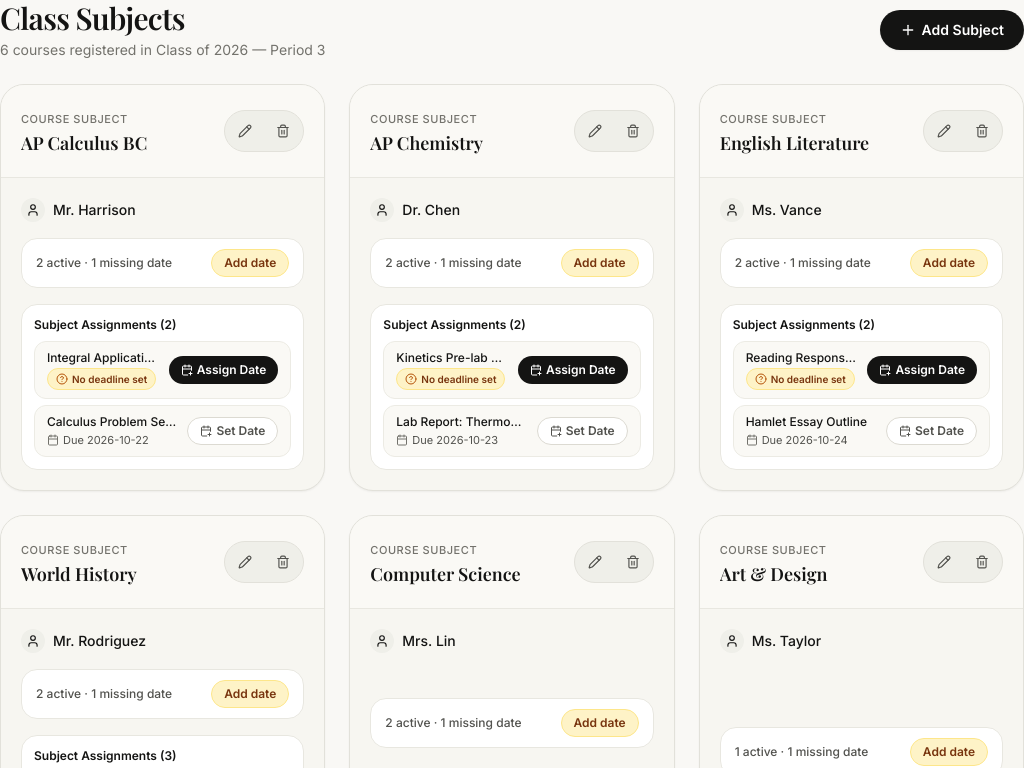
SubjectsScreen Component › allows deleting a subject with confirmation
The image size is (1024, 768).
Check: the heading "AP Calculus BC" is shown, box [21,129,147,157]
Click delete button on AP Calculus BC card
Click the button named "delete ap calculus bc" at [283, 131], box [267,115,299,147]
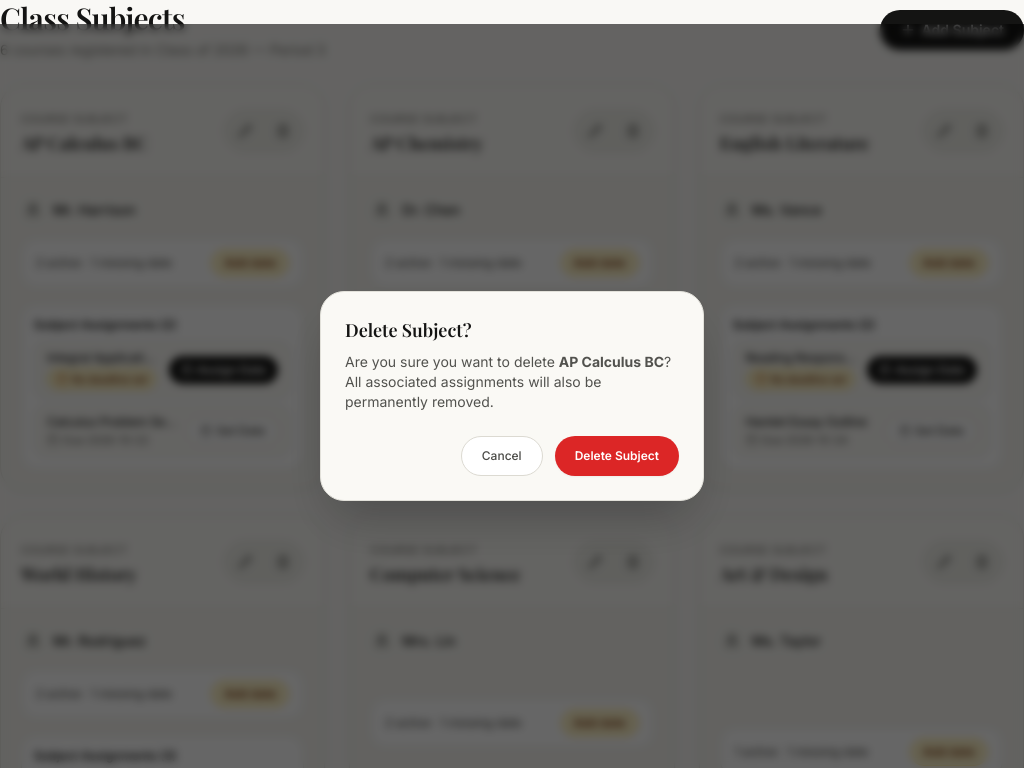
Check: the dialog "Delete Subject?" is shown
Check: the text "Are you sure you want to delete" is shown, box [345,353,559,370]
Confirm delete
Click the button "Delete Subject" at [617, 456], box [555,436,679,476]
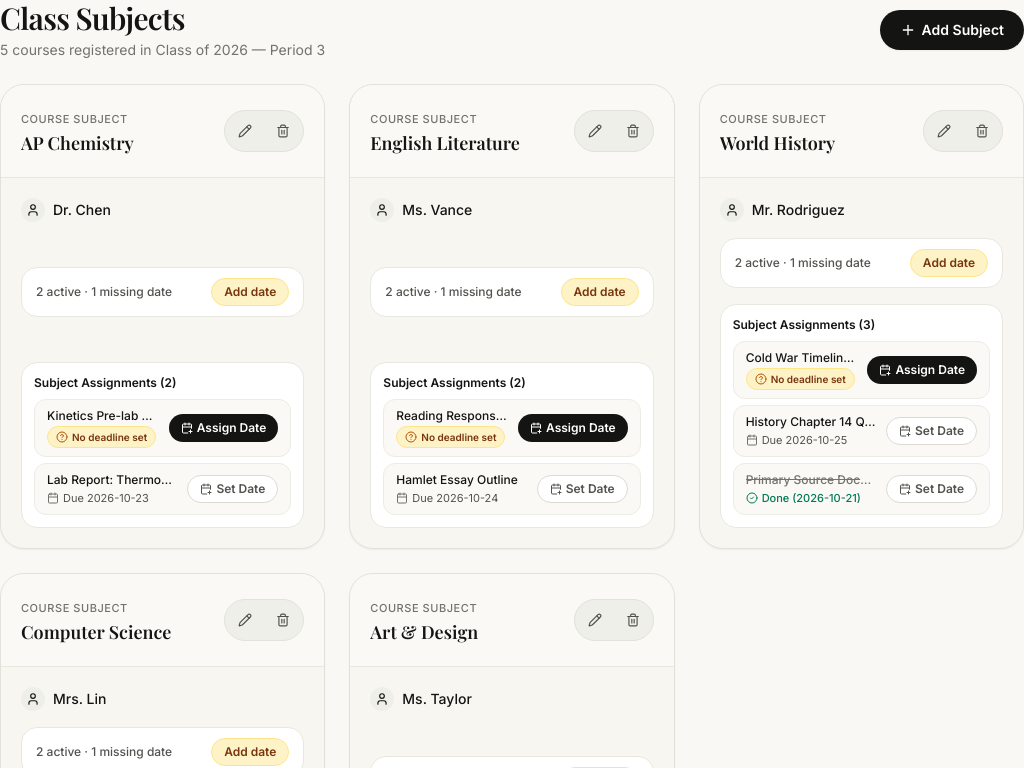
Check: the heading "AP Calculus BC" is gone
